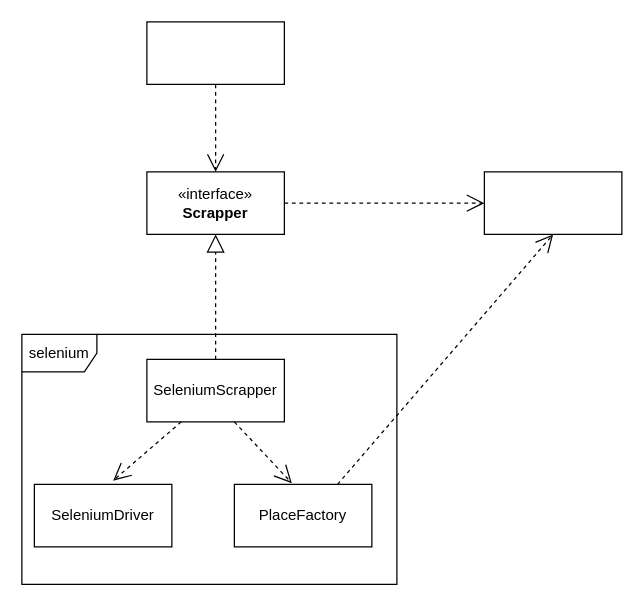
Image size: 644x606. Some labels were removed from this diagram. Each missing label, with the box of its shape:
GooglePlaces: (146, 21, 284, 84)
Place: (483, 171, 622, 234)
